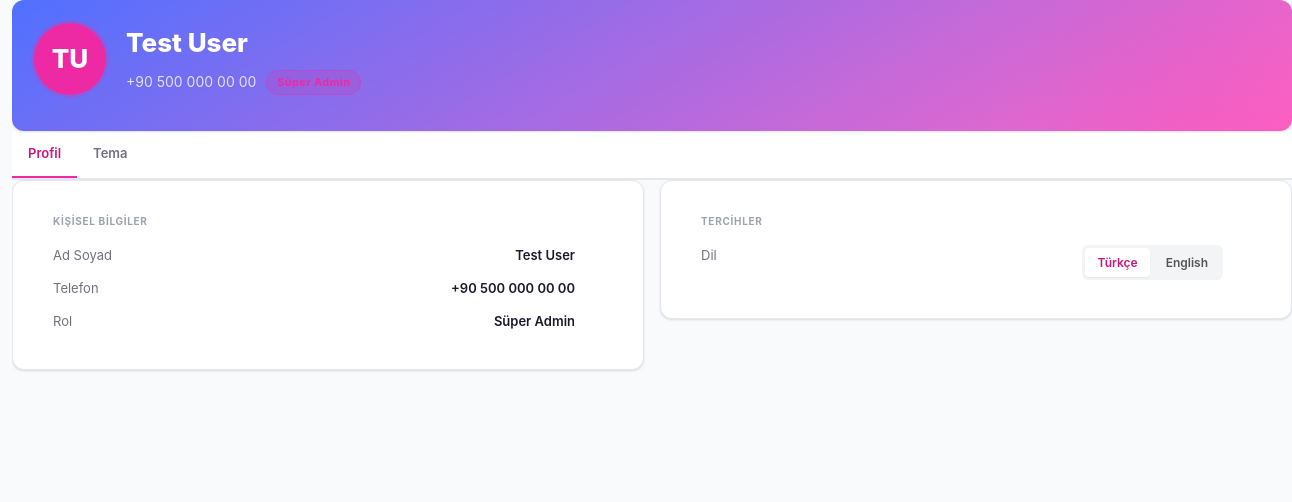
Test: ProfilePage › shows theme selection as the second profile tab
This screenshot has width=1292, height=502.
Click the button "Tema" at (110, 155), box [77,131,144,178]
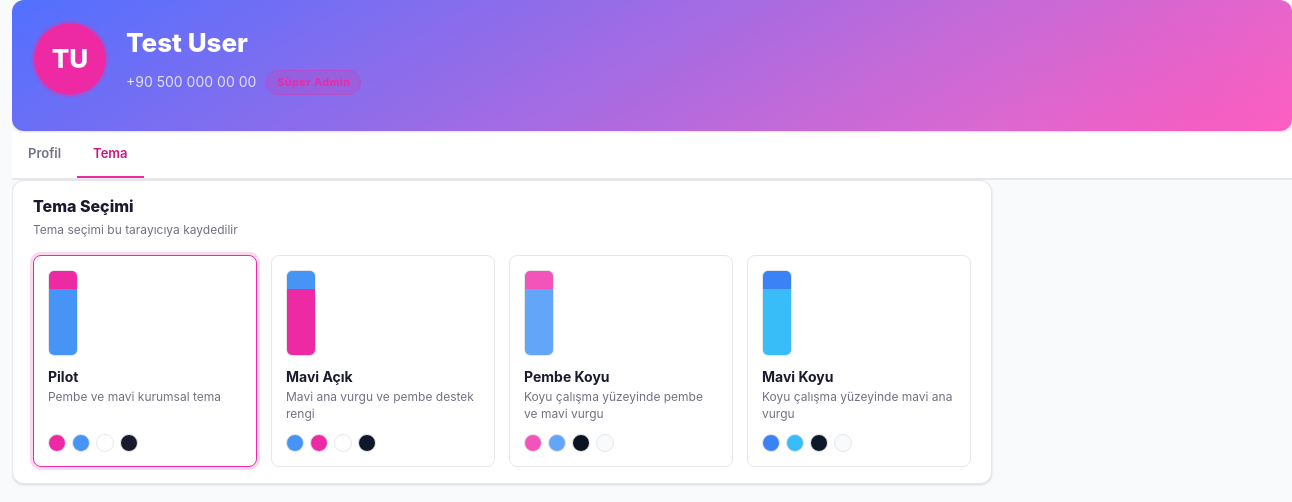
Now the heading "Tema Seçimi" is shown, box [33,196,134,216]
